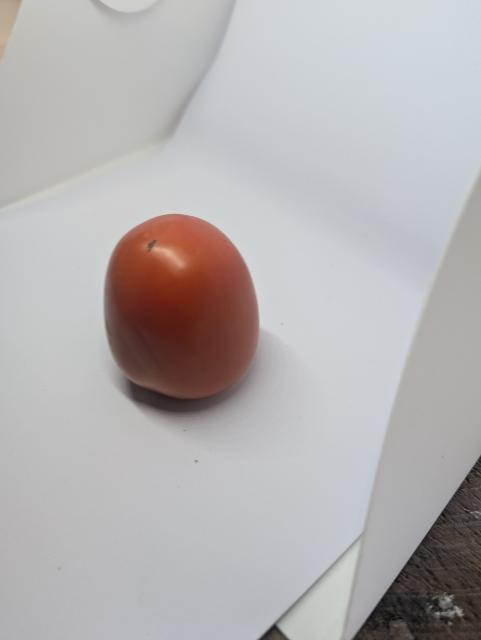red: (93, 201, 271, 412)
